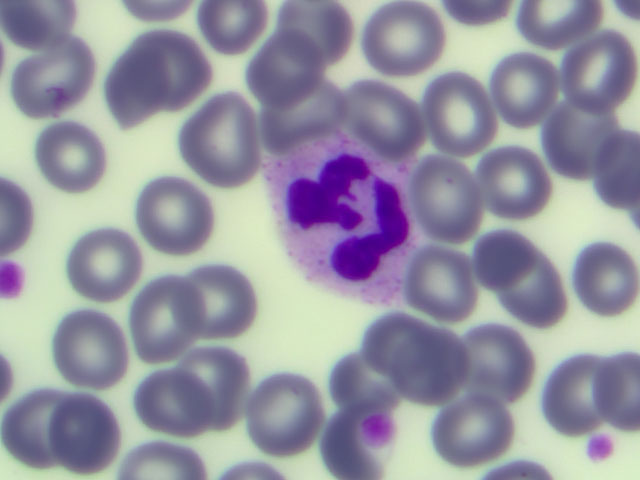Platelets: (1, 255, 31, 311), (363, 410, 399, 447), (589, 431, 616, 461)
RBC: (15, 29, 97, 111), (29, 123, 111, 205), (65, 222, 147, 304), (130, 171, 212, 253), (178, 103, 260, 185), (100, 49, 182, 131), (129, 20, 211, 102), (235, 27, 317, 109), (368, 2, 450, 84), (342, 65, 424, 147), (263, 65, 345, 147), (419, 69, 501, 151), (473, 139, 555, 221), (418, 157, 500, 239), (465, 209, 547, 291), (506, 258, 588, 340), (399, 236, 481, 318), (186, 260, 268, 342), (126, 275, 208, 357), (43, 301, 125, 383), (47, 392, 129, 474), (1, 381, 83, 463), (136, 364, 218, 446), (187, 337, 269, 419), (244, 374, 326, 456), (316, 335, 398, 417), (364, 305, 446, 387), (404, 328, 486, 410), (466, 322, 548, 404), (443, 383, 525, 465), (531, 354, 613, 436), (558, 242, 640, 324), (536, 95, 618, 177), (481, 55, 563, 137), (556, 25, 638, 107), (290, 1, 372, 82), (196, 1, 269, 53)
WBC: (270, 135, 423, 300)
